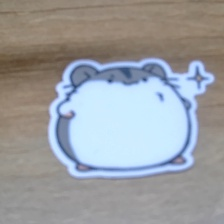mouse: (46, 52, 217, 181)
